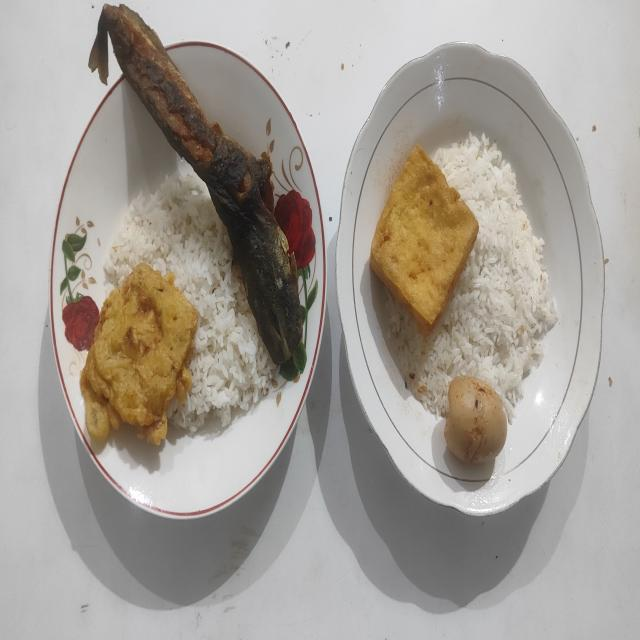nasi_putih: (385, 134, 557, 423), (104, 174, 276, 434)
tahu_goreng: (370, 146, 478, 334)
